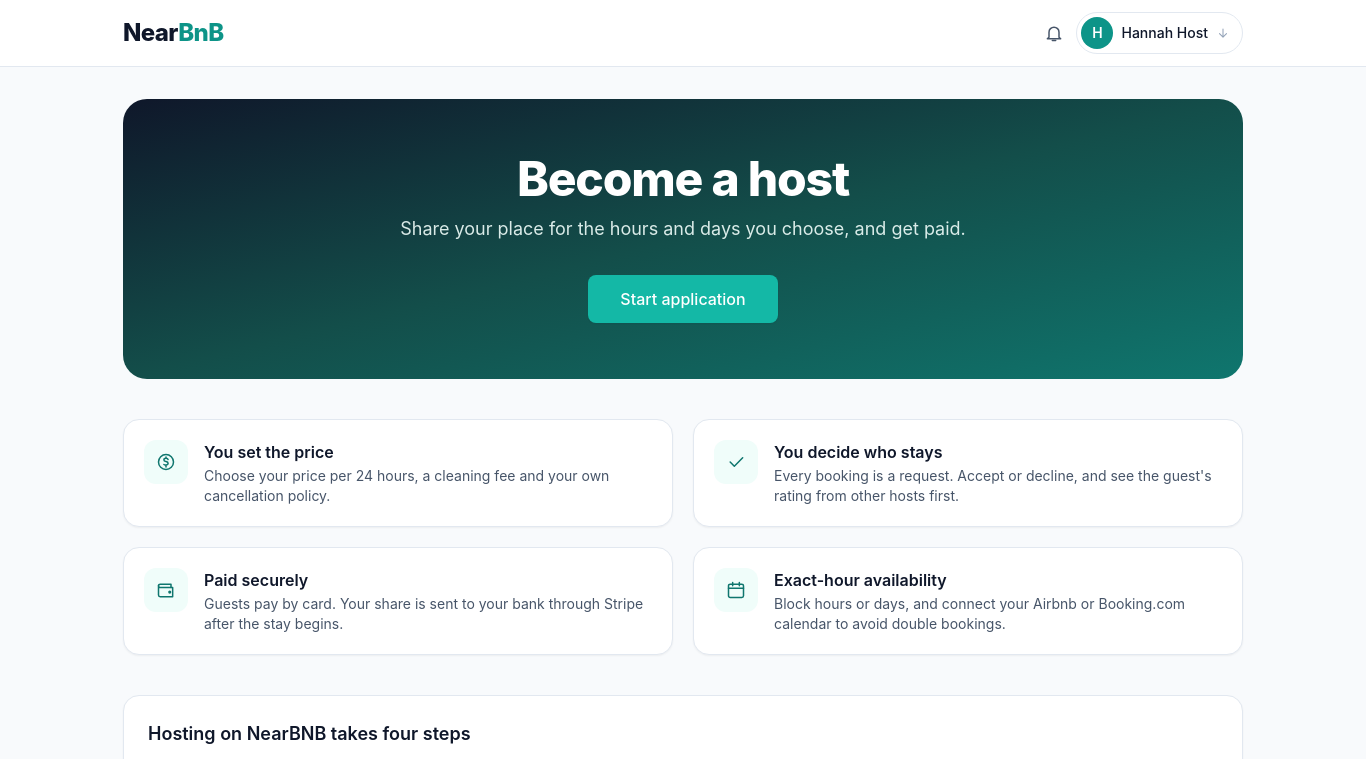
it: host area shell › starting the application shows the person their application, still on the public site
Click the button "Start application": (683, 299) [588,275,778,323]
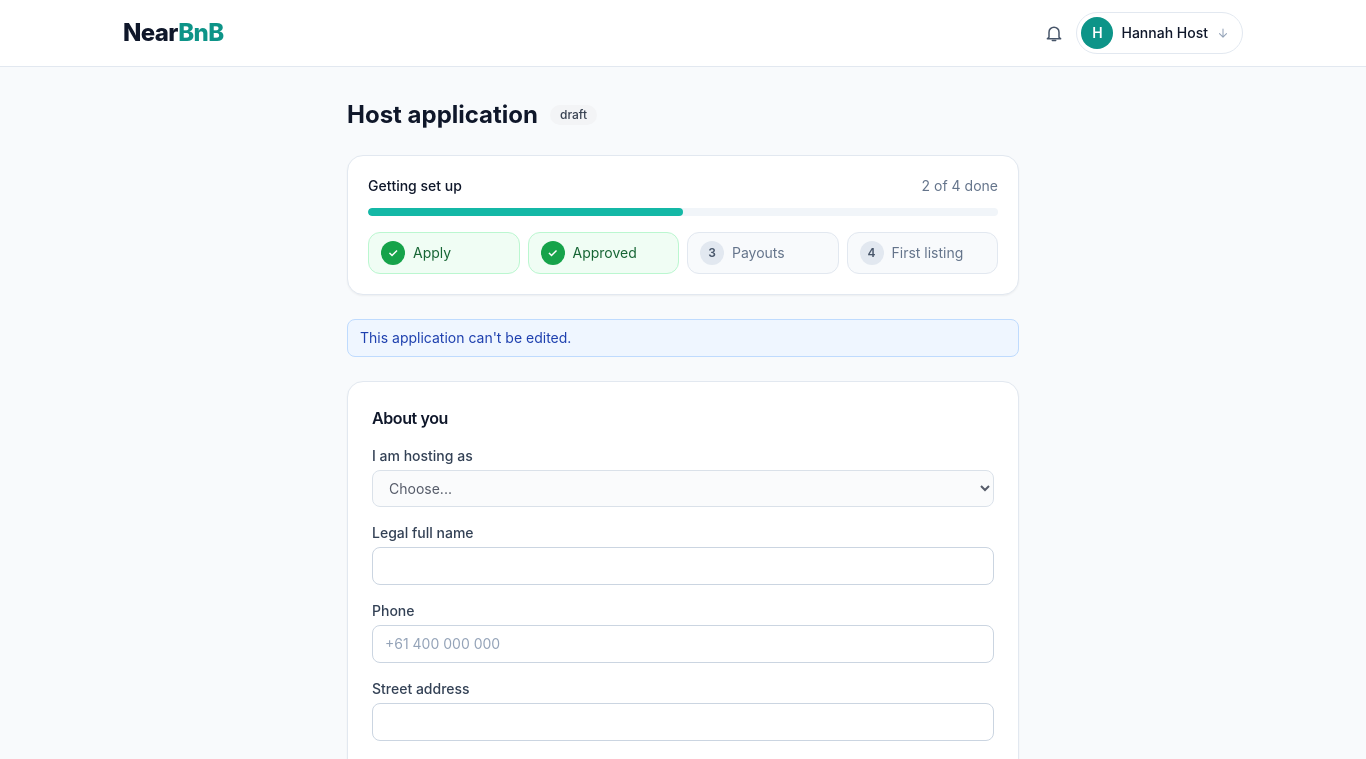
Click the button with aria-label "Account menu": (1160, 33) [1076,12,1243,54]
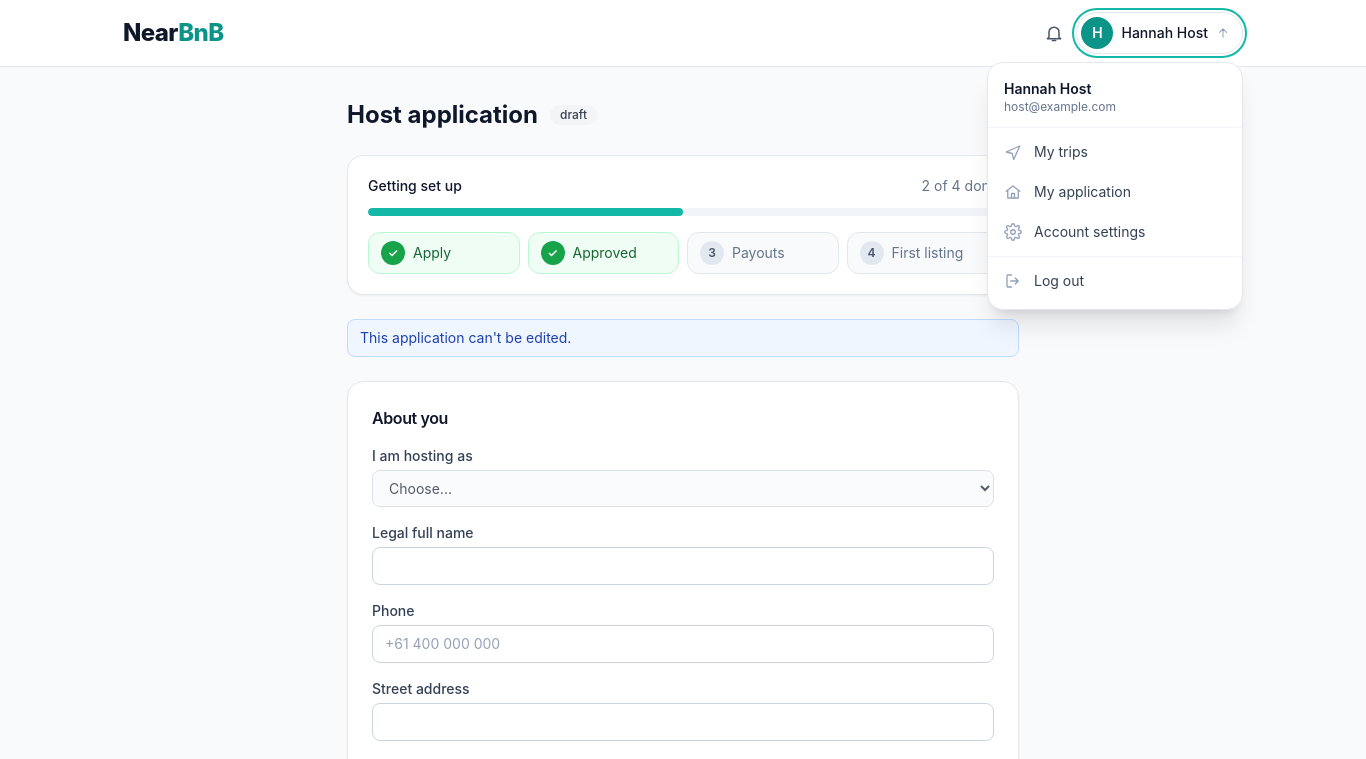
Check: the menu item "My application" is shown, box [1004,183,1131,201]
